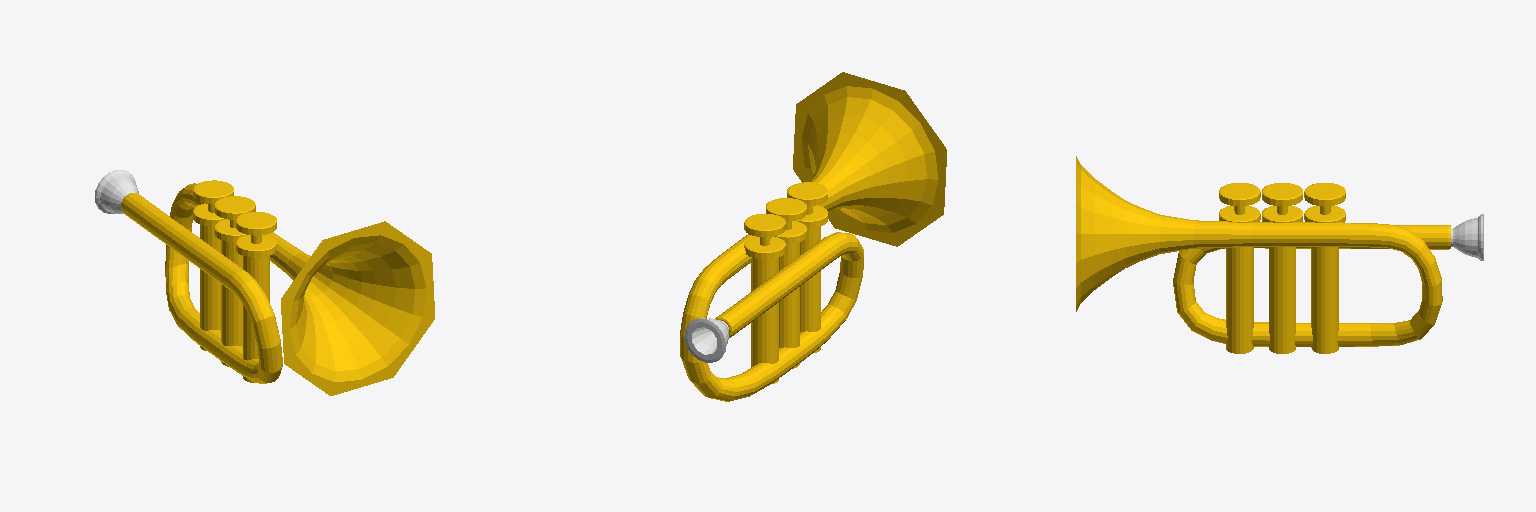
The model's file is Trompeta.obj.
3 renders of one model, left to right at view 1: azimuth 30°, elevation 25°; view 2: azimuth 150°, elevation 25°; view 3: azimuth 270°, elevation 25°, orthographic.
Visible parts, largest first — view 1: polySurface2; view 2: polySurface2; view 3: polySurface2.
Part boxes in pixels (bbox=[...]): polySurface2: bbox=[95, 170, 434, 395]; polySurface2: bbox=[680, 72, 946, 401]; polySurface2: bbox=[1076, 156, 1483, 353].
Size of the model in its own units: 2.43 by 3.08 by 5.55.